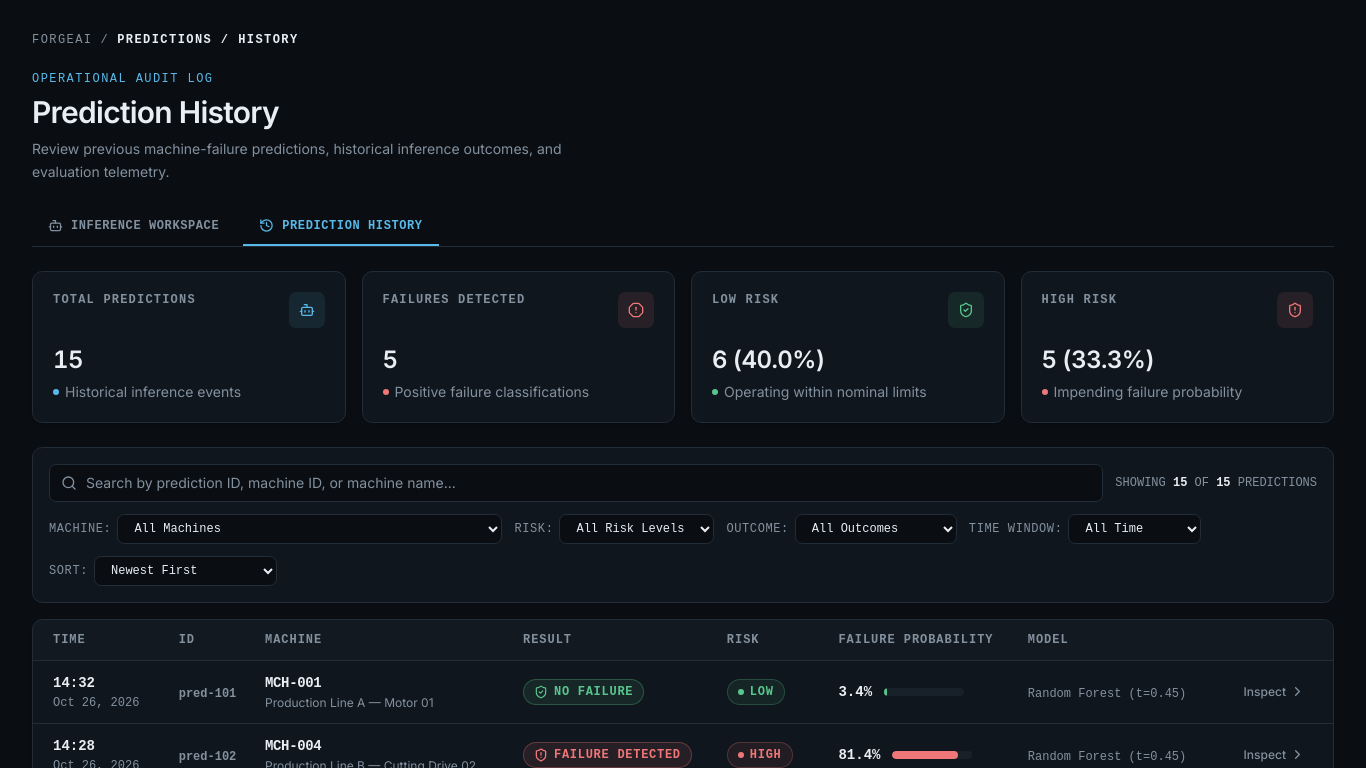
Test: Prediction History Experience (Part 10) › filters predictions by risk level
HIGH risk
Select "High Risk" in the dropdown named "Filter predictions by risk level" at (637, 528), box [559,514,714,544]
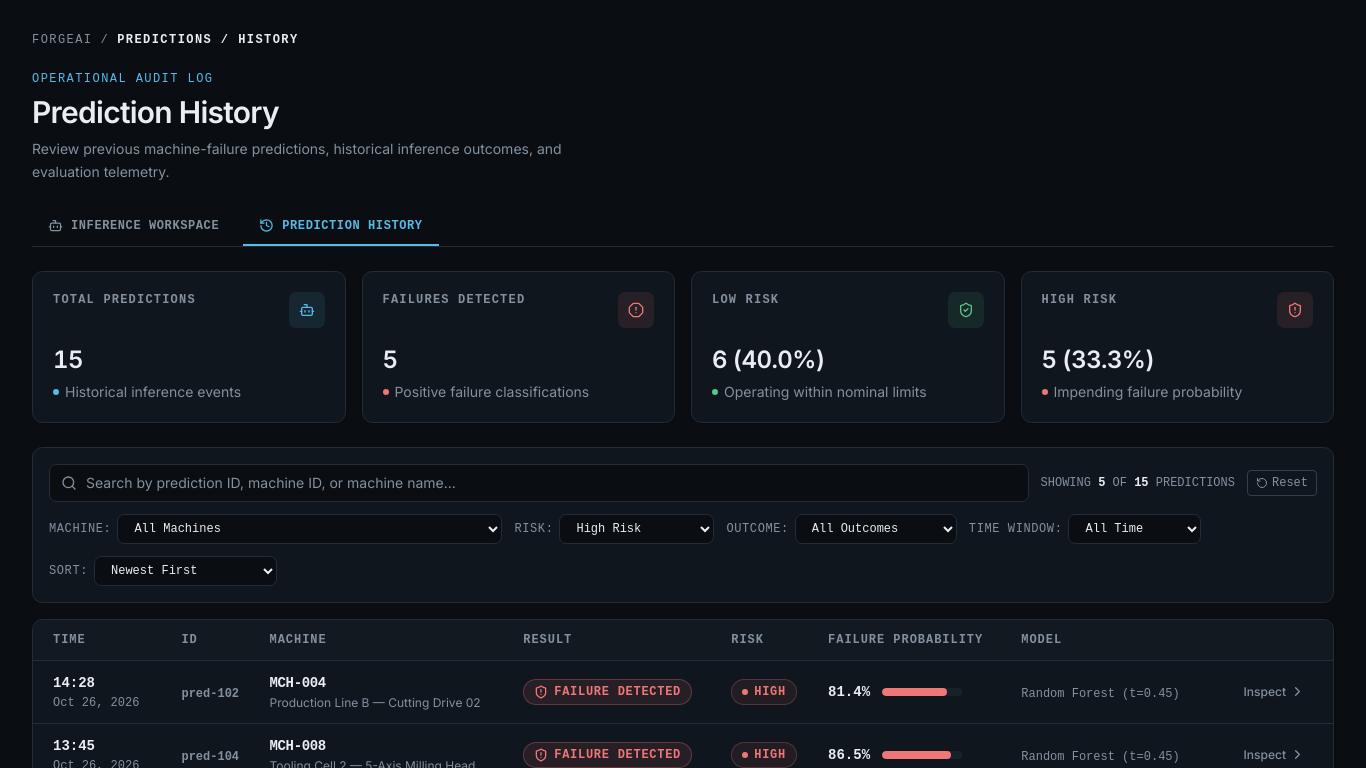
Check: the text "pred-102" is shown, box [181,686,239,700]
Check: the text "pred-101" is gone
LOW risk
Select "Low Risk" in the dropdown named "Filter predictions by risk level" at (637, 528), box [559,514,714,544]
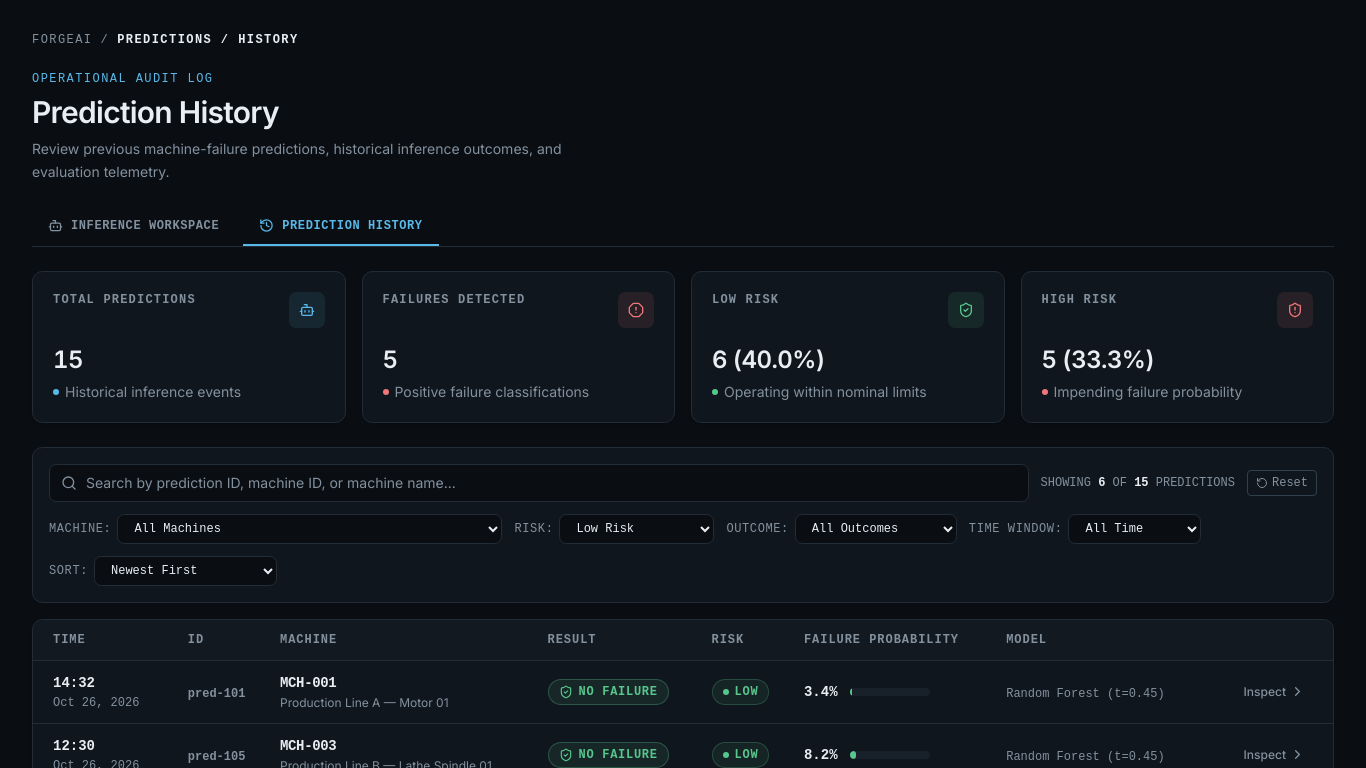
Check: the text "pred-101" is shown, box [188,686,245,700]
Check: the text "pred-105" is shown, box [188,750,245,764]
Check: the text "pred-102" is gone
